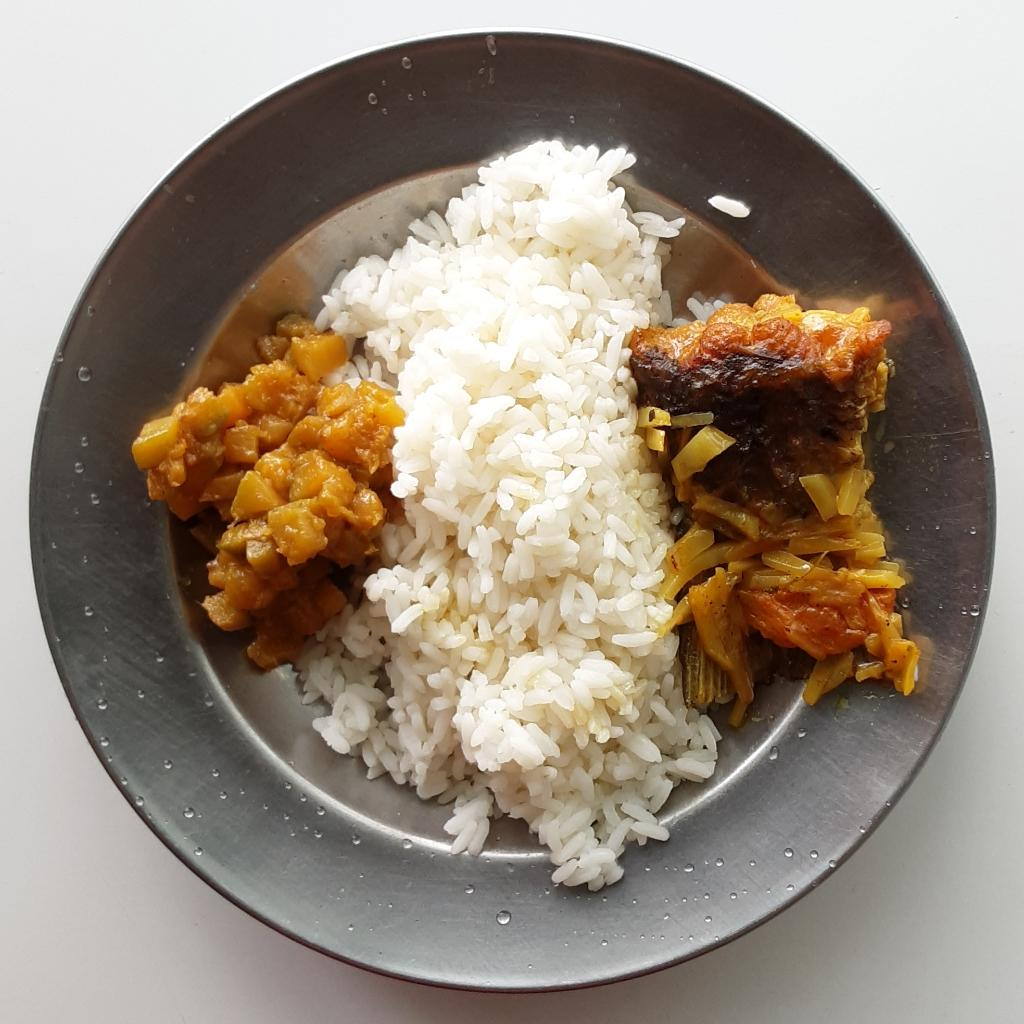fish: (643, 295, 919, 724)
kumra-vaji: (128, 314, 401, 664)
potato: (652, 409, 914, 704)
rice: (280, 136, 721, 893)
tomato: (688, 579, 840, 699)
